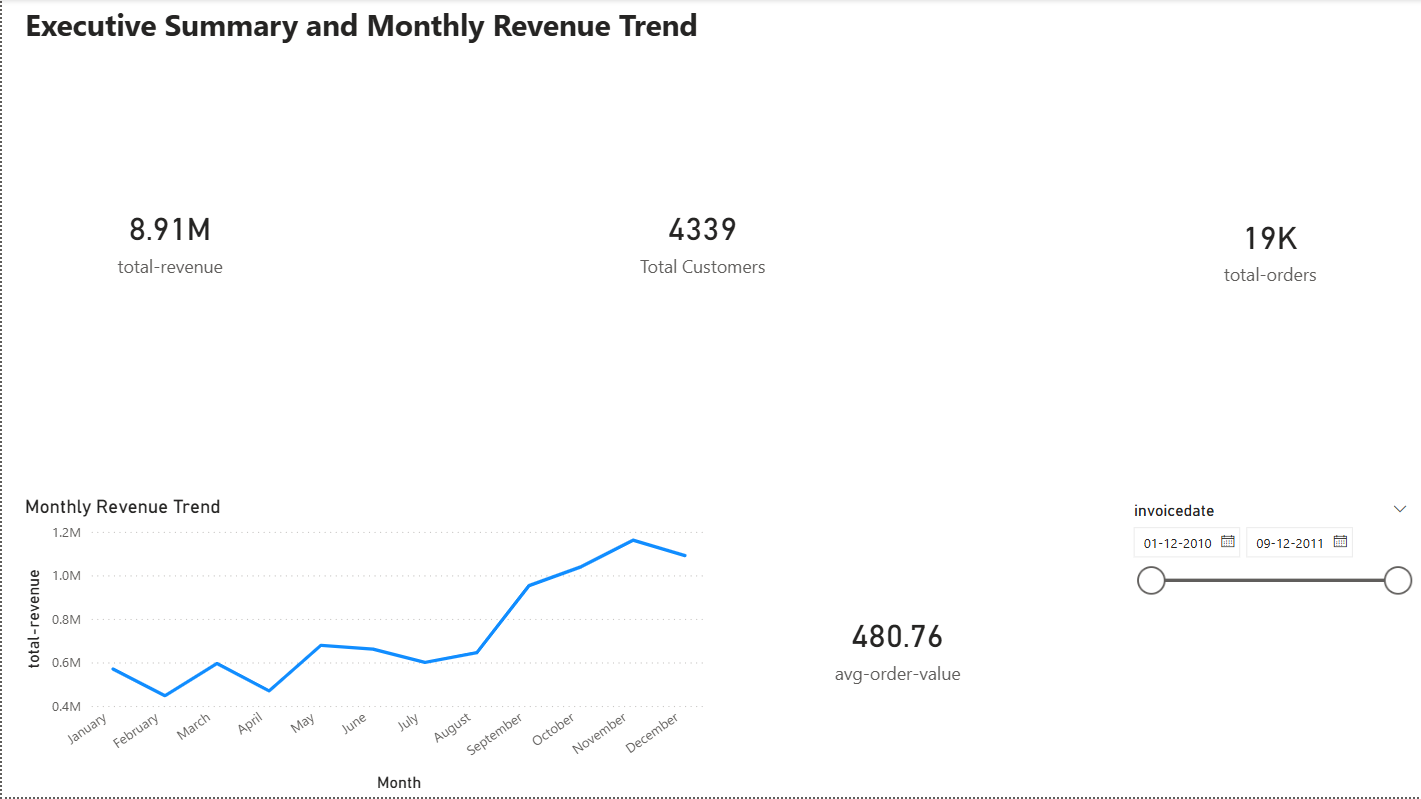

What the dashboard file says about the page in this screenshot:
{"tool":"powerbi","page":{"name":"Executive Overview","canvas":[1280,720],"ordinal":0},"visuals":[{"type":"card","fields":{"Values":["public ecommerce.total-revenue"]},"box":[16,80,272,272],"z":0},{"type":"card","fields":{"Values":["public ecommerce.total-orders"]},"box":[1008,80,272,288],"z":1000},{"type":"card","fields":{"Values":["public ecommerce.Total Customers"]},"box":[496,80,272,272],"z":2000},{"type":"textbox","box":[0,362,272,272],"z":3000},{"type":"card","fields":{"Values":["public ecommerce.avg-order-value"]},"box":[672,448,272,272],"z":4000},{"type":"lineChart","title":"Monthly Revenue Trend","fields":{"Category":["public ecommerce.invoicedate.Variation.Date Hierarchy.Year","public ecommerce.invoicedate.Variation.Date Hierarchy.Month"],"Y":["public ecommerce.total-revenue"]},"box":[16,448,624,272],"z":5000},{"type":"textbox","box":[16,0,976,48],"z":6000},{"type":"slicer","fields":{"Values":["public ecommerce.invoicedate"]},"box":[1008,448,272,272],"z":6001}]}

Visuals, with their boxes in screenshot pixels (x1, y1, x2, y2), scaled from the page's 1280x720 canvas onto the 1421x799 screenshot:
card - public ecommerce.total-revenue: bbox=[18, 89, 320, 391]
card - public ecommerce.total-orders: bbox=[1119, 89, 1420, 408]
card - public ecommerce.Total Customers: bbox=[551, 89, 853, 391]
textbox: bbox=[0, 402, 302, 704]
card - public ecommerce.avg-order-value: bbox=[746, 497, 1048, 798]
"Monthly Revenue Trend" lineChart: bbox=[18, 497, 710, 798]
textbox: bbox=[18, 0, 1101, 53]
slicer - public ecommerce.invoicedate: bbox=[1119, 497, 1420, 798]
